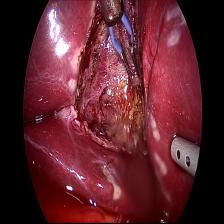Bipolar: (97, 0, 147, 87)
Irrigator: (167, 130, 199, 176)
